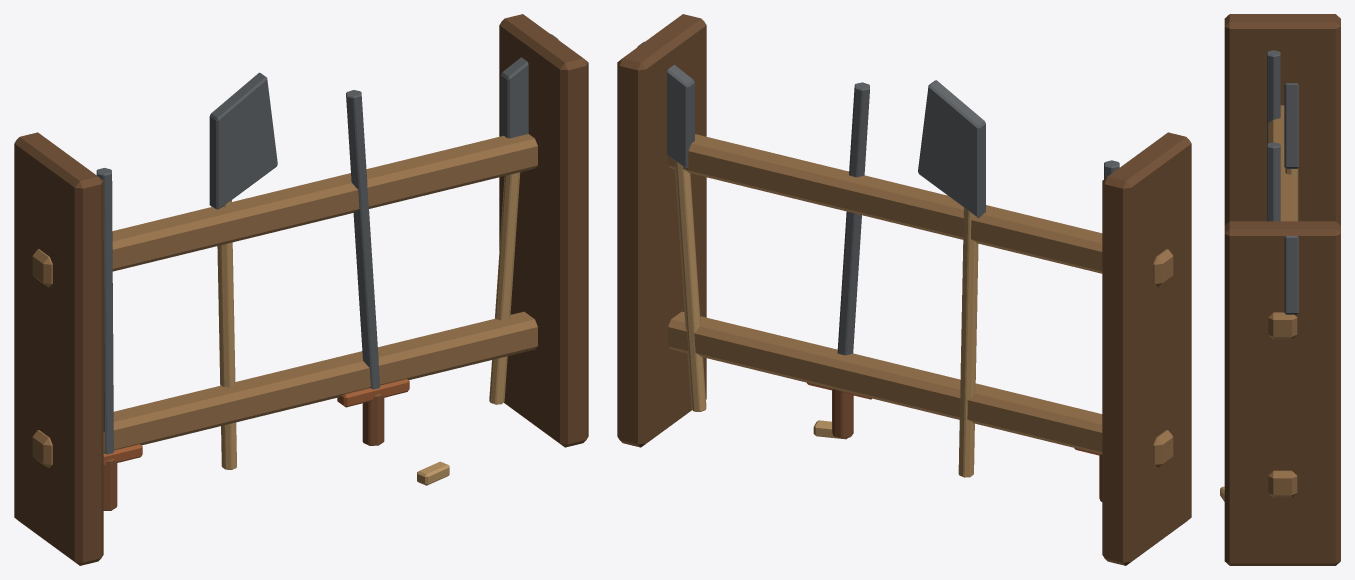
Rendered from runtime.glb.
3 views of the same model, side by side, from view 1: azimuth 30°, elevation 25°; view 2: azimuth 150°, elevation 25°; view 3: azimuth 270°, elevation 25° (orthographic). The views are drawn at different scales.
Parts seen in each view (by area): view 1: falkenwacht-weapon-rack-v06_nocol; view 2: falkenwacht-weapon-rack-v06_nocol; view 3: falkenwacht-weapon-rack-v06_nocol.
Boxes of the visible parts, x1,y1,x2,y2 form: falkenwacht-weapon-rack-v06_nocol: [14, 14, 588, 565]; falkenwacht-weapon-rack-v06_nocol: [617, 14, 1191, 565]; falkenwacht-weapon-rack-v06_nocol: [1220, 14, 1340, 565].
Bounding box in the file's own units: 2.41 × 1.78 × 0.54.
